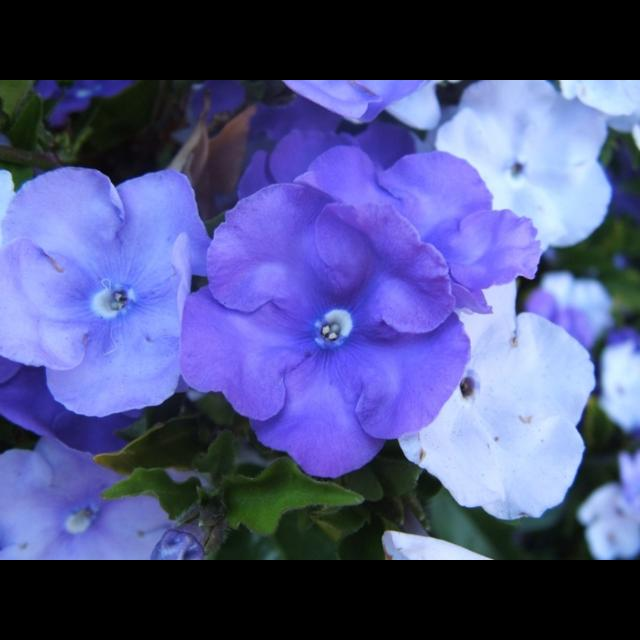Flower: (183, 149, 517, 489), (1, 166, 216, 414), (401, 279, 595, 519), (298, 150, 544, 304), (435, 80, 613, 256), (0, 443, 198, 559), (234, 98, 421, 200), (0, 358, 142, 458), (522, 267, 622, 341), (282, 80, 450, 122), (579, 449, 639, 558), (33, 80, 147, 124), (564, 80, 640, 146), (174, 80, 248, 140), (600, 328, 640, 432)
